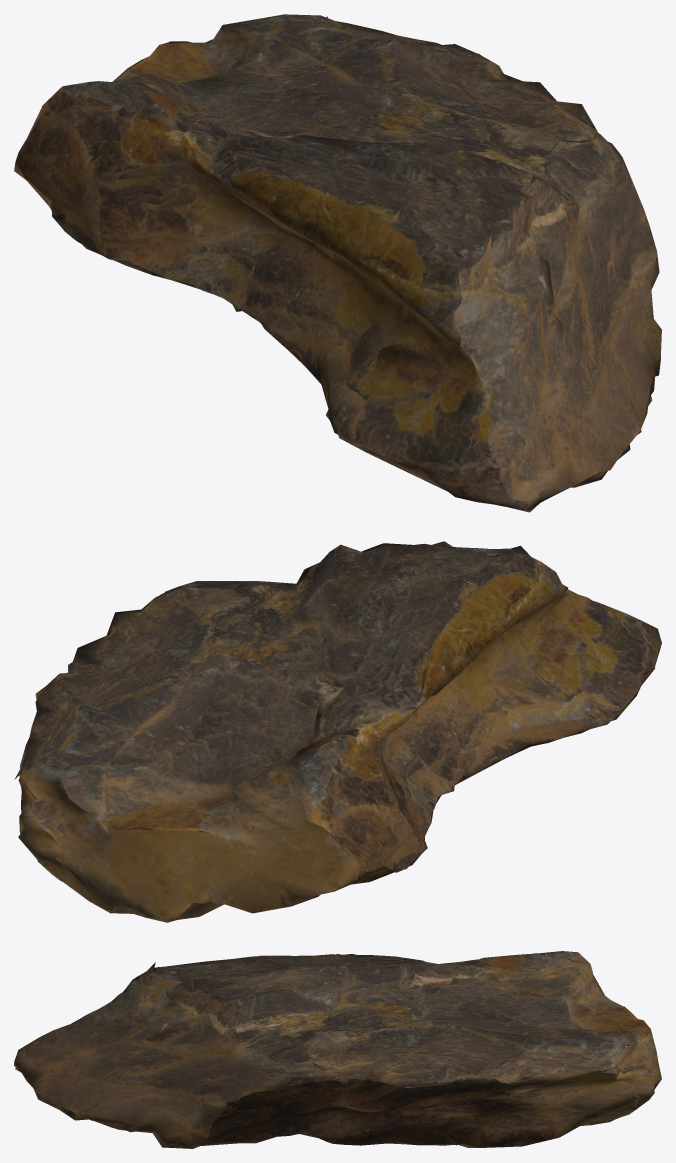
File: rock_b.glb
3 views of the same model, one above another, from view 1: azimuth 30°, elevation 25°; view 2: azimuth 150°, elevation 25°; view 3: azimuth 270°, elevation 25° (orthographic). The views are drawn at different scales.
Parts seen in each view (by area): view 1: rock_09_LOD0; view 2: rock_09_LOD0; view 3: rock_09_LOD0.
Part boxes in pixels (x1,y1,x2,y2): rock_09_LOD0: (14,14,661,512); rock_09_LOD0: (14,541,661,922); rock_09_LOD0: (14,951,661,1148).
Bounding box in the file's own units: 0.4087 × 0.1802 × 0.8008.
1 material, 1 textured.
